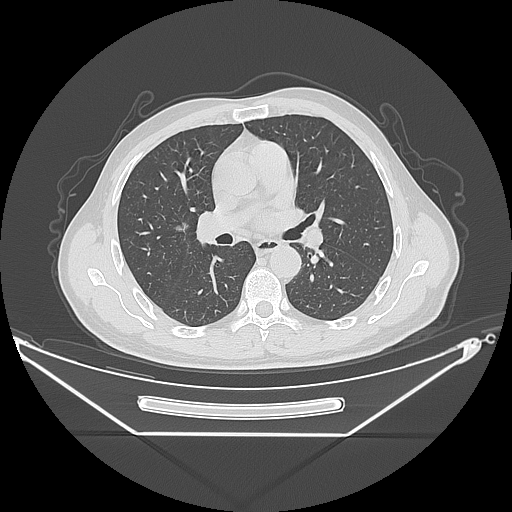nodule: (174, 222, 189, 231)
